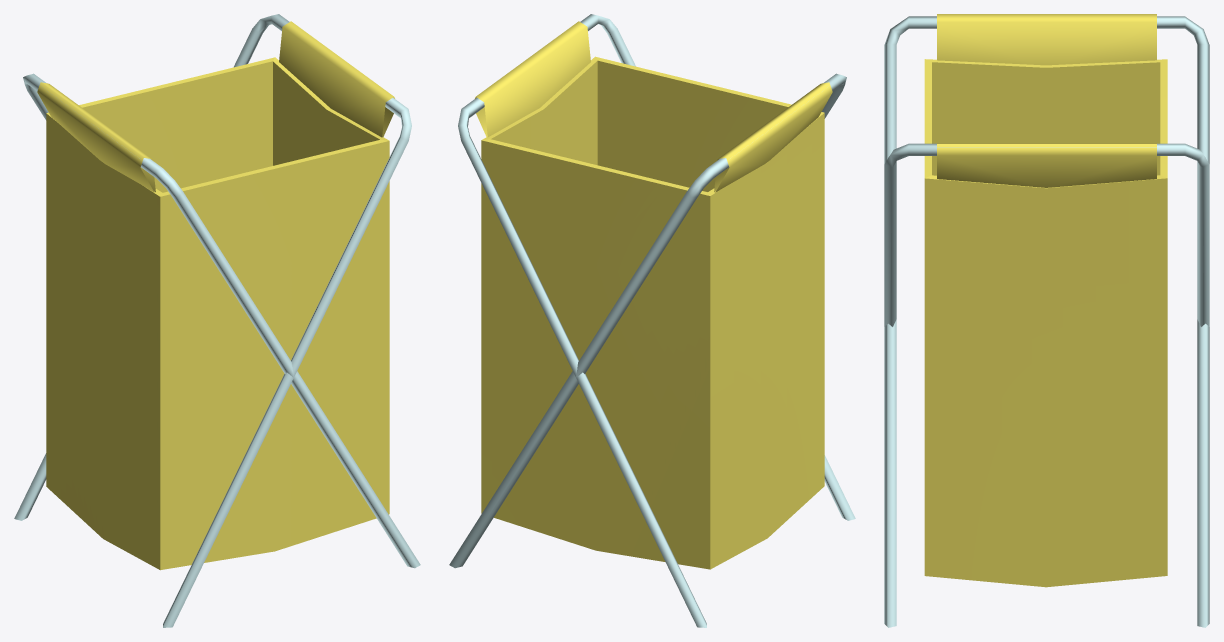
The model's file is Cesto.obj.
3 renders of one model, left to right at view 1: azimuth 30°, elevation 25°; view 2: azimuth 150°, elevation 25°; view 3: azimuth 270°, elevation 25°, orthographic. The views are drawn at different scales.
Visible parts, largest first — view 1: bathroom_item_001; view 2: bathroom_item_001; view 3: bathroom_item_001.
Boxes of the visible parts, x1=… form: bathroom_item_001: x1=14, y1=14, x2=420, y2=627; bathroom_item_001: x1=449, y1=14, x2=855, y2=627; bathroom_item_001: x1=884, y1=14, x2=1209, y2=627.
Bounding box in the file's own units: 0.46 × 0.7714 × 0.4716.
1 material, 1 textured.
